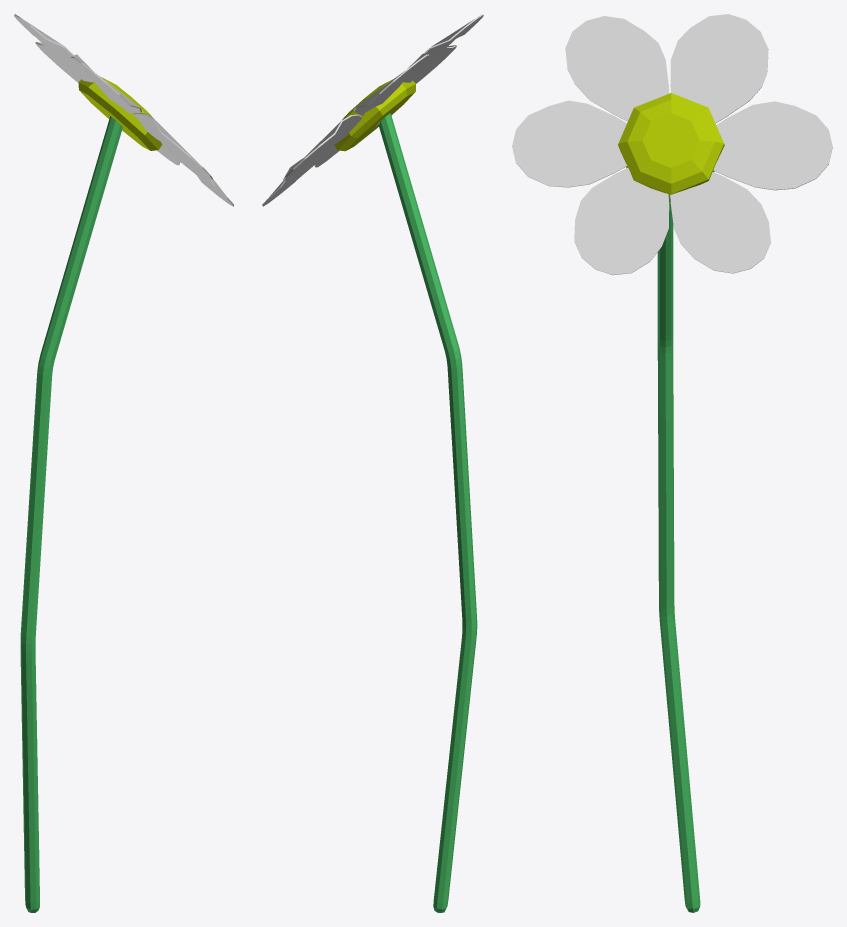
File: Flower.glb
3 renders of one model, left to right at view 1: azimuth 30°, elevation 25°; view 2: azimuth 150°, elevation 25°; view 3: azimuth 270°, elevation 25°, orthographic. The views are drawn at different scales.
Visible parts, largest first — view 1: Plane.001, Circle, Circle.001; view 2: Plane.001, Circle, Circle.001; view 3: Circle, Plane.001, Circle.001.
Part boxes in pixels (x1=…): Plane.001: x1=20, y1=116, x2=122, y2=912; Circle: x1=14, y1=14, x2=233, y2=206; Circle.001: x1=78, y1=77, x2=162, y2=150; Plane.001: x1=378, y1=113, x2=477, y2=912; Circle: x1=262, y1=14, x2=483, y2=206; Circle.001: x1=334, y1=79, x2=415, y2=151; Circle: x1=512, y1=14, x2=832, y2=275; Plane.001: x1=657, y1=198, x2=700, y2=912; Circle.001: x1=618, y1=93, x2=724, y2=197.
Bounding box in the file's own units: 0.1383 × 0.6444 × 0.2079.
